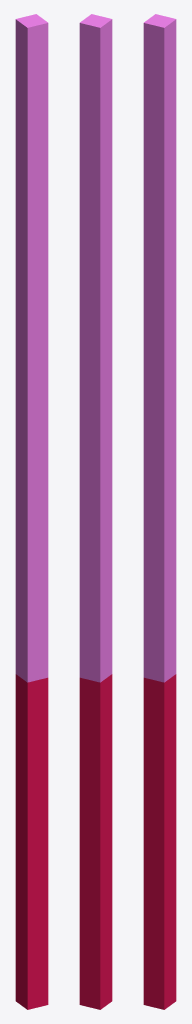
Rendered from FairySting.fbx.
The picture shows the model from 3 angles, left to right: view 1: azimuth 30°, elevation 25°; view 2: azimuth 150°, elevation 25°; view 3: azimuth 330°, elevation 25°; orthographic projection.
Parts seen in each view (by area): view 1: Cube.001, Cube.002; view 2: Cube.001, Cube.002; view 3: Cube.001, Cube.002.
Boxes of the visible parts, box(x1,y1,x2,y2) form: Cube.001: box(15, 14, 48, 682); Cube.002: box(15, 674, 48, 1009); Cube.001: box(79, 14, 112, 682); Cube.002: box(79, 674, 112, 1009); Cube.001: box(143, 14, 176, 682); Cube.002: box(143, 674, 176, 1009).
Bounding box in the file's own units: 4 × 180 × 4.
